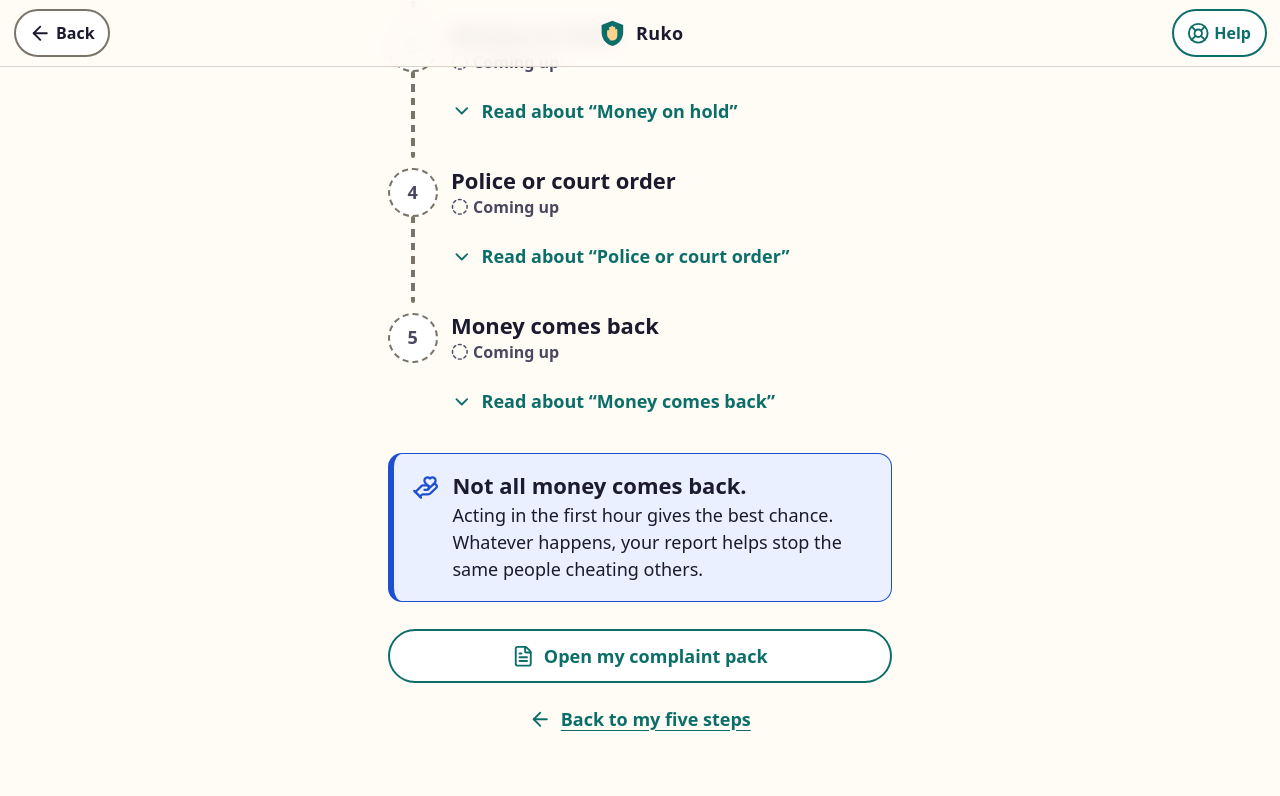
Scenario: /golden-hour/status — what happens next › lets her read about other steps without changing where she is
This screenshot has width=1280, height=796.
(page scrolled)
Click the heading "Read about “Money comes back”" at (613, 401), box [451, 389, 775, 413]
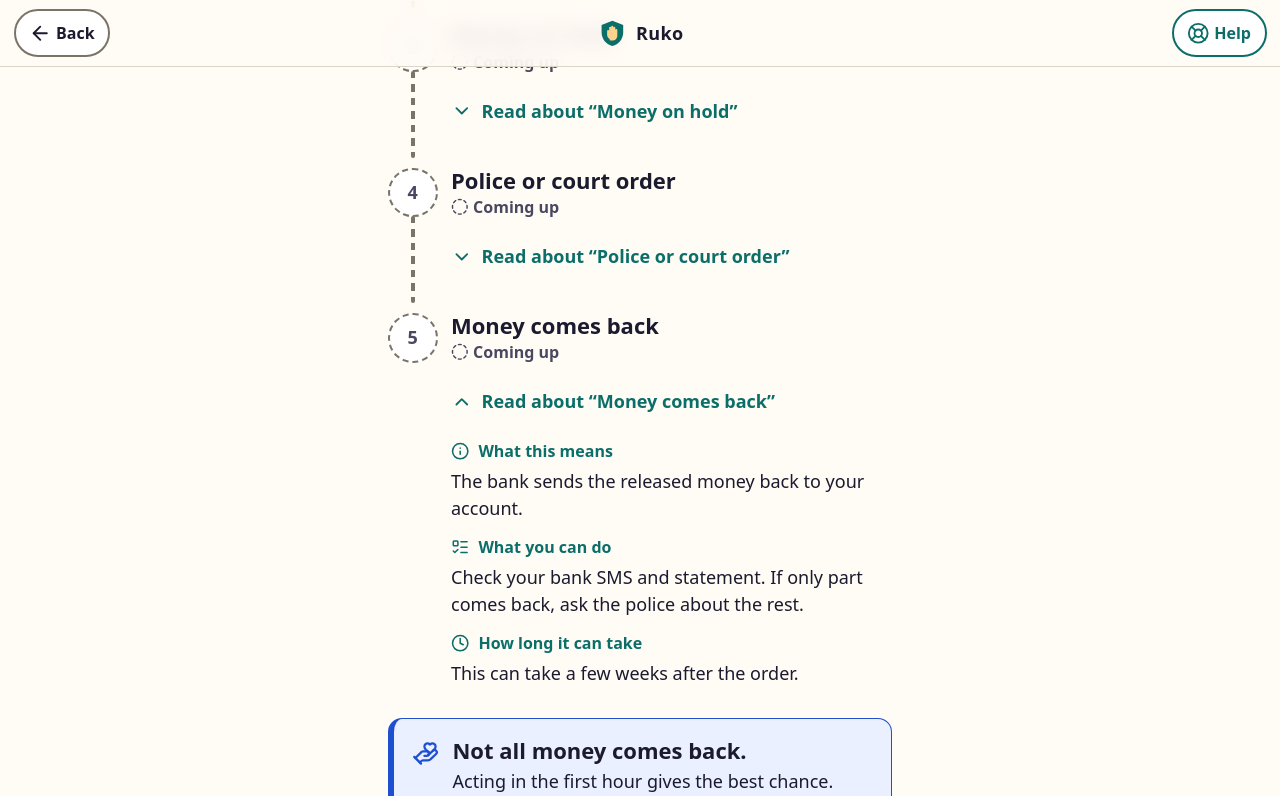
Now the text "The bank sends the released money back to your account." is shown, box [451, 468, 892, 522]
